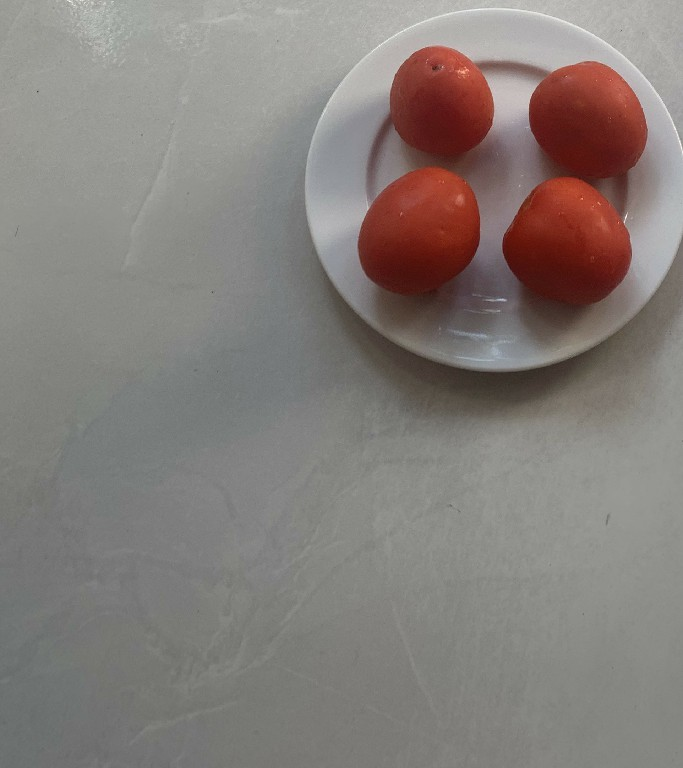OK: (493, 167, 644, 317), (355, 168, 488, 306), (525, 52, 649, 182), (387, 40, 496, 162)
